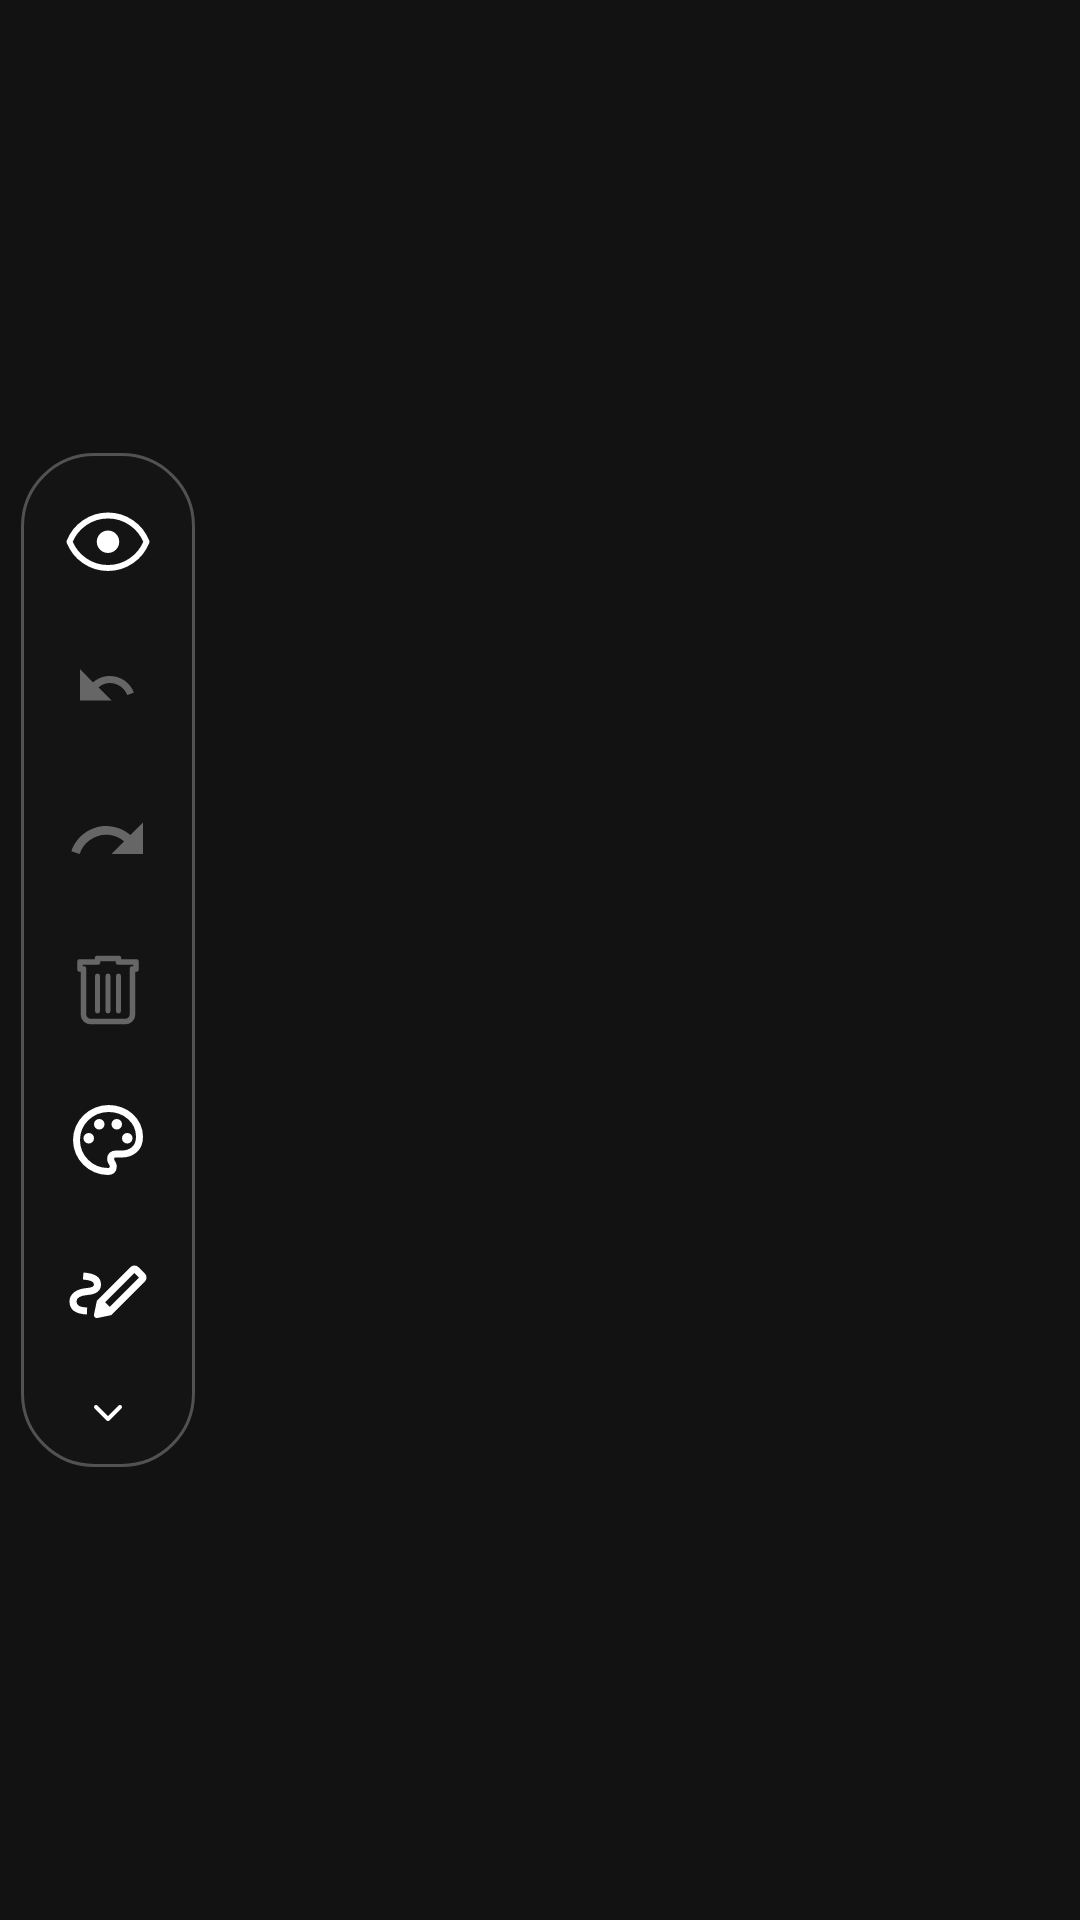

Where icons sit on this 1080w x 1920h app screen, as bbox(x1, y1, x2, y2):
Clear canvas: bbox(77, 956, 139, 1024)
Collapse or expand toolbar: bbox(94, 1405, 122, 1421)
Current drawing color: bbox(73, 1105, 143, 1175)
Hide or show canvas: bbox(66, 512, 150, 571)
Redo: bbox(71, 823, 143, 854)
Select drawing tool: bbox(69, 1265, 147, 1318)
Undo last stroke: bbox(80, 669, 134, 701)
